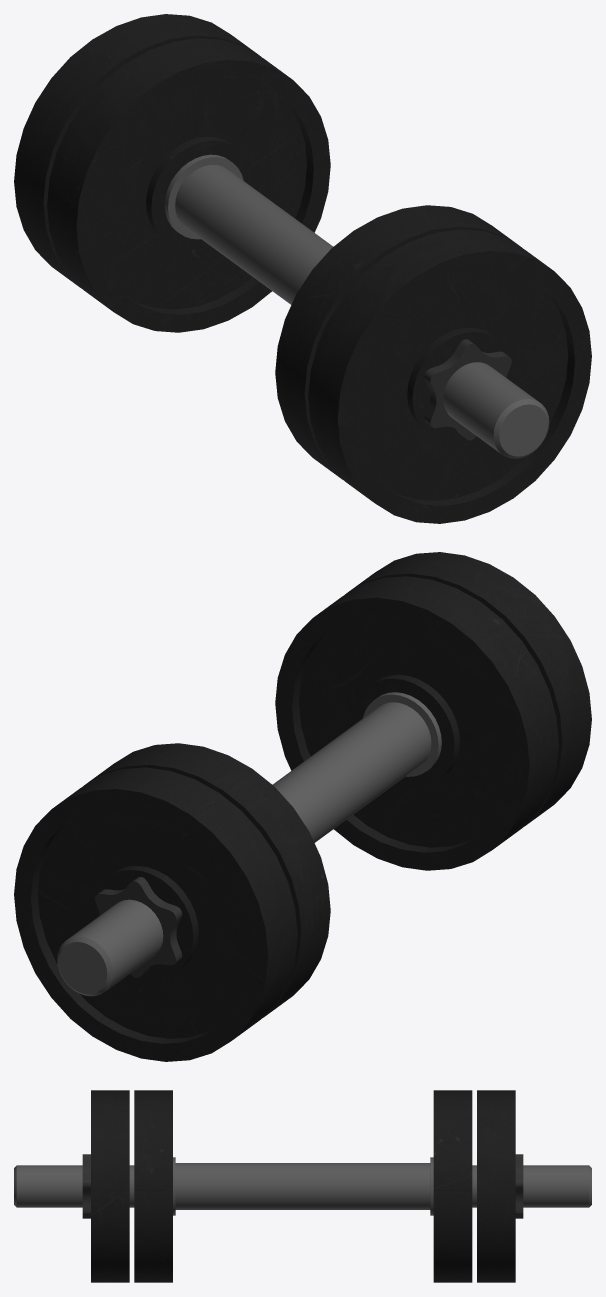
Rendered from dumbbell.glb.
The picture shows the model from 3 angles, top to bottom: view 1: azimuth 30°, elevation 25°; view 2: azimuth 150°, elevation 25°; view 3: azimuth 270°, elevation 25°; orthographic projection. The views are drawn at different scales.
Parts seen in each view (by area): view 1: D2_Baked_D2_Baked.001_0, D1_Baked_D1_Baked.001_0, D3_Baked_D3_Baked.001_0; view 2: D2_Baked_D2_Baked.001_0, D1_Baked_D1_Baked.001_0, D3_Baked_D3_Baked.001_0; view 3: D2_Baked_D2_Baked.001_0, D1_Baked_D1_Baked.001_0, D3_Baked_D3_Baked.001_0.
Boxes of the visible parts, x1,y1,x2,y2 form: D2_Baked_D2_Baked.001_0: (14, 14, 591, 523); D1_Baked_D1_Baked.001_0: (164, 154, 549, 458); D3_Baked_D3_Baked.001_0: (424, 339, 511, 440); D2_Baked_D2_Baked.001_0: (14, 552, 591, 1061); D1_Baked_D1_Baked.001_0: (57, 692, 441, 996); D3_Baked_D3_Baked.001_0: (95, 877, 182, 977); D2_Baked_D2_Baked.001_0: (91, 1090, 515, 1282); D1_Baked_D1_Baked.001_0: (14, 1157, 591, 1215); D3_Baked_D3_Baked.001_0: (82, 1154, 523, 1218).
Bounding box in the file's own units: 2 × 2 × 6.
3 materials, 3 textured.
